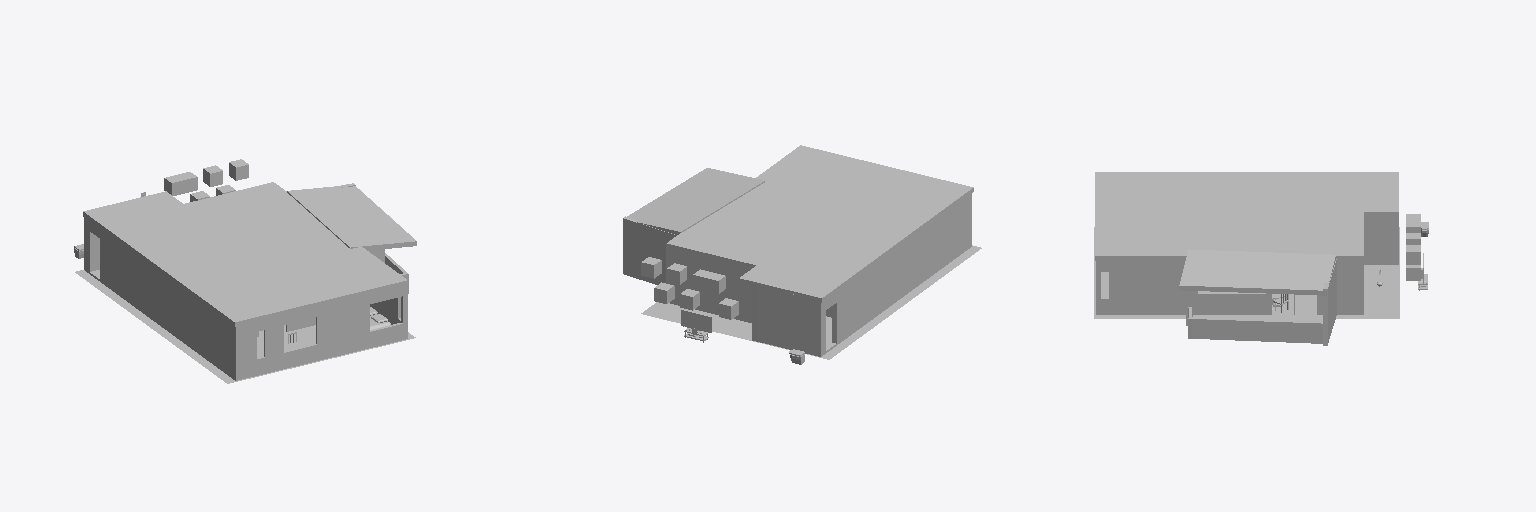
File: OttoBrandt_2019-01-15_6.obj
3 views of the same model, side by side, from view 1: azimuth 30°, elevation 25°; view 2: azimuth 150°, elevation 25°; view 3: azimuth 270°, elevation 25° (orthographic).
Visible parts, largest first — view 1: roof_Cube.002, wall_outer_Cube, Floor_Plane; view 2: roof_Cube.002, wall_outer_Cube, Floor_Plane, bedroom_desk.001_Cube.016; view 3: roof_Cube.002, wall_outer_Cube, Floor_Plane.
Part boxes in pixels (x1,y1,x2,y2): roof_Cube.002: (83, 182, 416, 326); wall_outer_Cube: (84, 183, 408, 380); Floor_Plane: (75, 270, 415, 383); roof_Cube.002: (627, 145, 973, 302); wall_outer_Cube: (623, 194, 971, 356); Floor_Plane: (641, 245, 981, 359); bedroom_desk.001_Cube.016: (681, 310, 711, 342); roof_Cube.002: (1095, 172, 1398, 295); wall_outer_Cube: (1096, 217, 1398, 345); Floor_Plane: (1094, 227, 1399, 321).
Bounding box in the file's own units: 11.35 × 2.83 × 15.05.